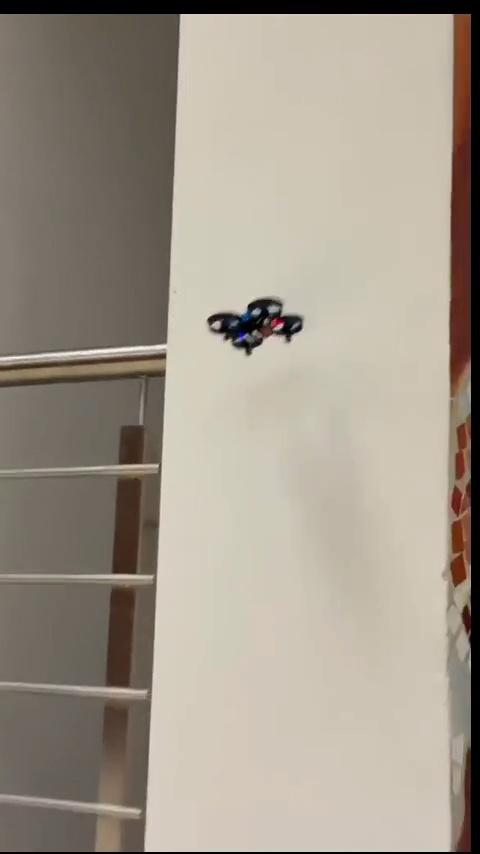drone: (206, 299, 302, 359)
